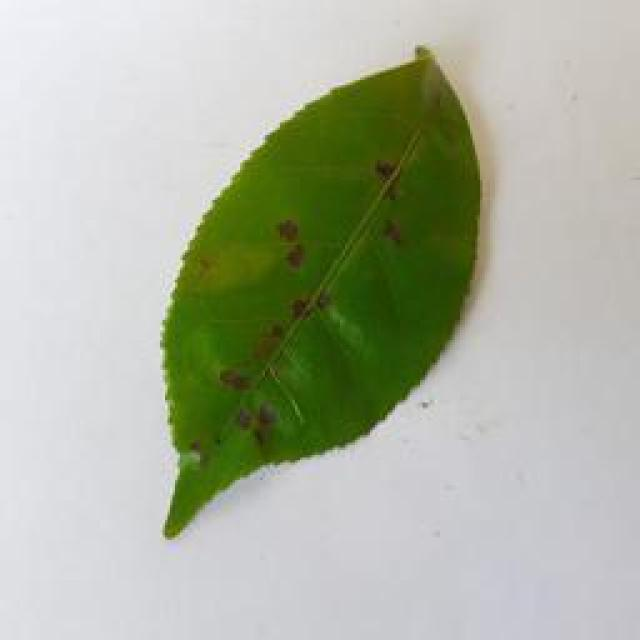Helopeltis: (137, 40, 495, 561)
